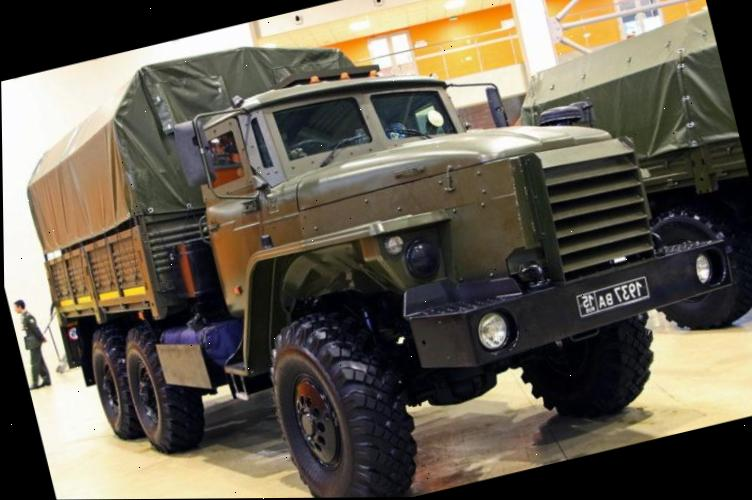person: (6, 294, 58, 391)
truck: (0, 0, 752, 500), (502, 3, 752, 362)
